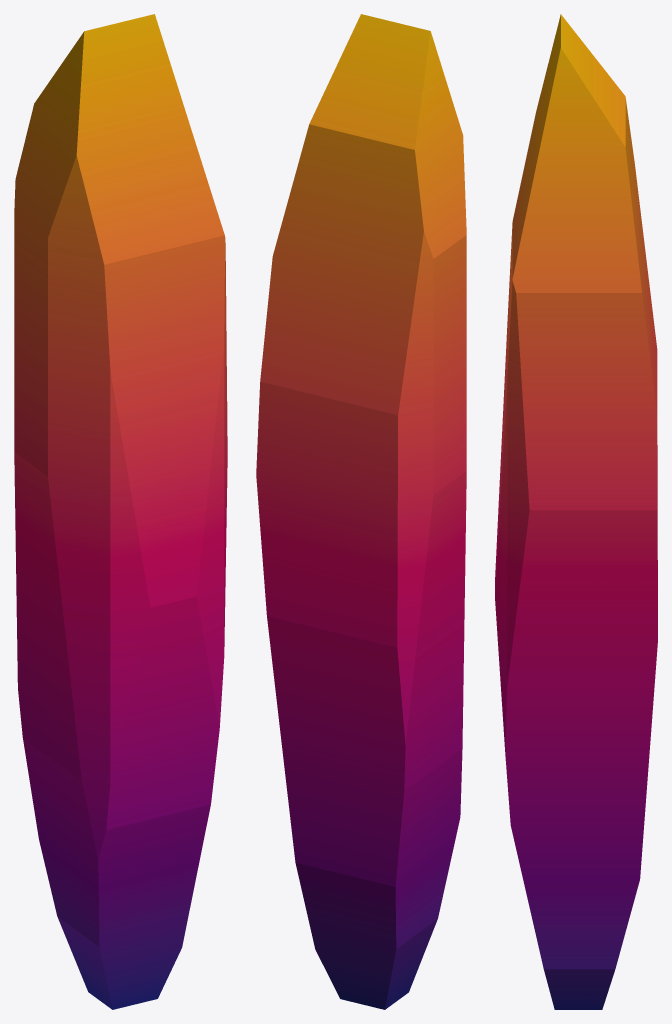
File: cristales02.fbx
The picture shows the model from 3 angles, left to right: view 1: azimuth 30°, elevation 25°; view 2: azimuth 150°, elevation 25°; view 3: azimuth 270°, elevation 25°; orthographic projection. The views are drawn at different scales.
Visible parts, largest first — view 1: cristal09; view 2: cristal09; view 3: cristal09.
Part boxes in pixels (<box>): cristal09: <box>14,14,227,1009</box>; cristal09: <box>256,14,466,1009</box>; cristal09: <box>495,14,657,1009</box>.
Bounding box in the file's own units: 288 × 1652 × 253.
1 material, 1 textured.
